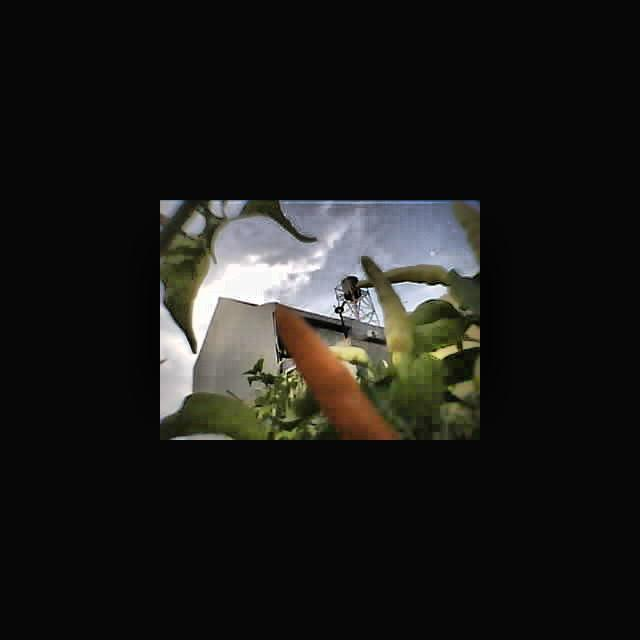Cabai: (280, 307, 334, 393)
